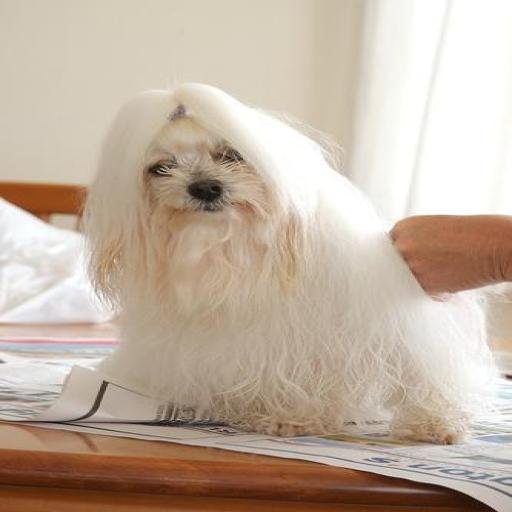dog_face: (82, 92, 329, 245)
